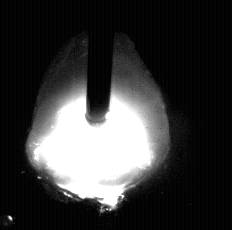arame: (87, 0, 111, 126)
poca: (26, 0, 171, 230)
